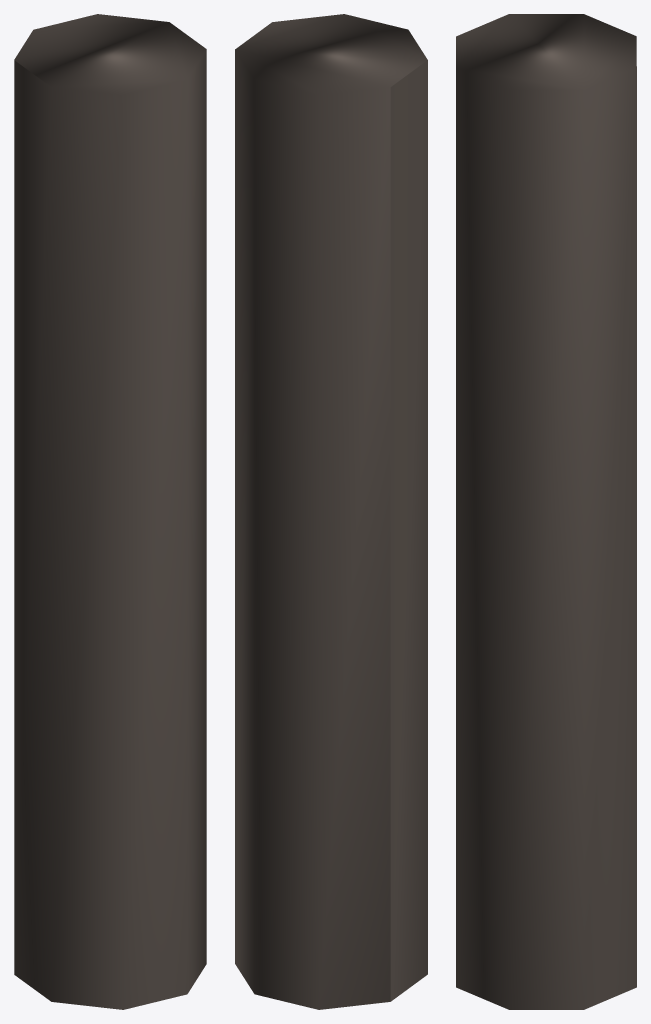
File: stair_pillar.glb
3 renders of one model, left to right at view 1: azimuth 30°, elevation 25°; view 2: azimuth 150°, elevation 25°; view 3: azimuth 270°, elevation 25°, orthographic.
Parts seen in each view (by area): view 1: stair_pillar; view 2: stair_pillar; view 3: stair_pillar.
Part boxes in pixels (x1,y1,x2,y2): stair_pillar: (14,14,206,1009); stair_pillar: (235,14,427,1009); stair_pillar: (456,14,636,1009).
Size of the model in its own units: 1.42 by 8 by 1.42.
Materials: 1 (1 with a texture image).
